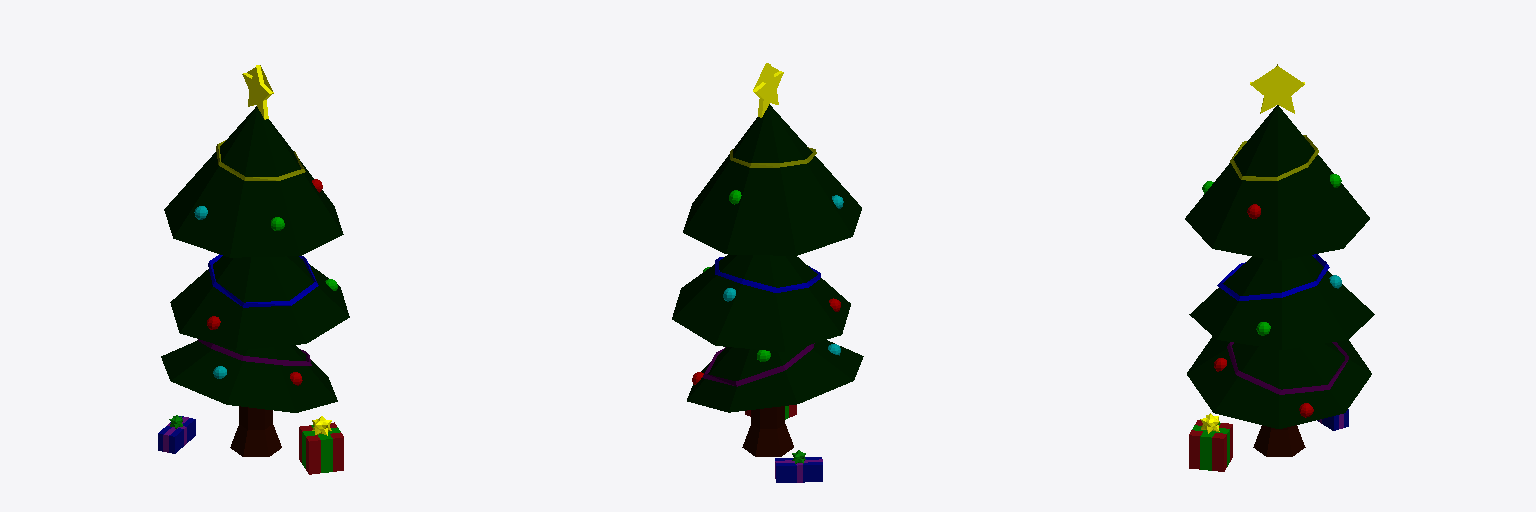
The model's file is xmastree5.obj.
3 renders of one model, left to right at view 1: azimuth 30°, elevation 25°; view 2: azimuth 150°, elevation 25°; view 3: azimuth 270°, elevation 25°, orthographic.
Visible parts, largest first — view 1: Present_Cube.001; view 2: Present_Cube.001; view 3: Present_Cube.001.
Part boxes in pixels (x1,y1,x2,y2): Present_Cube.001: (158, 65, 349, 474); Present_Cube.001: (672, 63, 863, 482); Present_Cube.001: (1185, 64, 1374, 471).
Size of the model in its own units: 4.02 by 8.58 by 3.87.